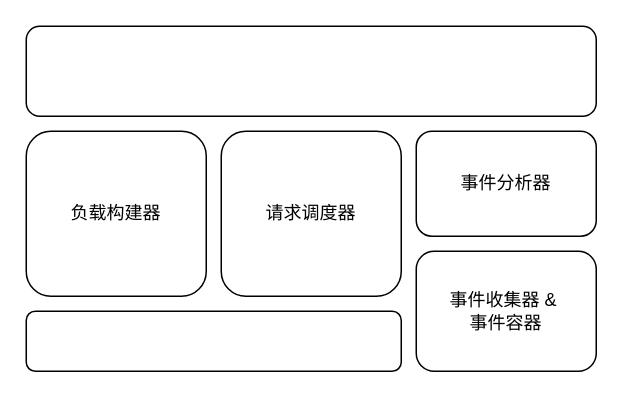
The diagram is 623 pixels wide and 398 high, and some of its shapes have lost their labels. Each missing label, with the box of its shape:
结果展示UI: (25, 25, 596, 116)
配置文件: (25, 310, 401, 371)
